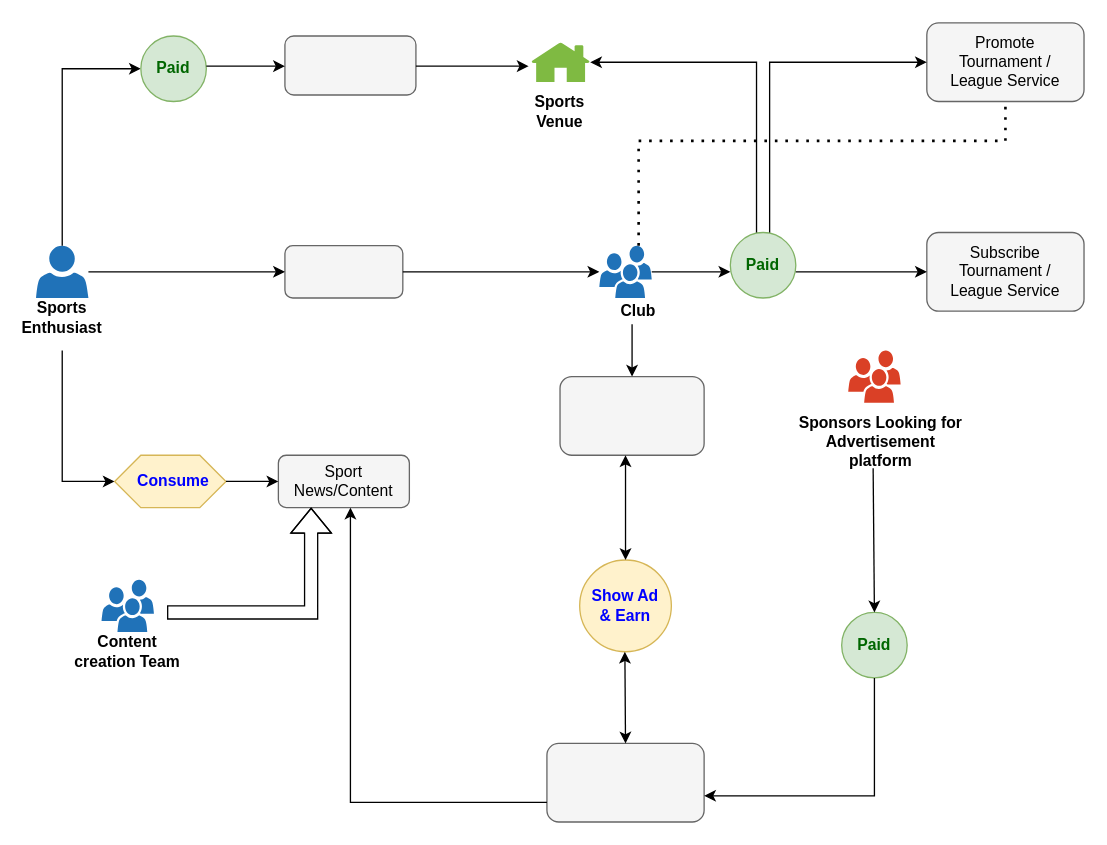
The diagram is 1107 pixels wide and 845 high, and some of its shapes have lost their labels. The shapes that lost their labels are listed below. From the top down, each one's centre as x and y in pixels, then its label:
(350,65): Venue Booking Service
(343,271): Form Club Service
(631,415): Create Tournament / League Service
(625,782): Advertisement Service
